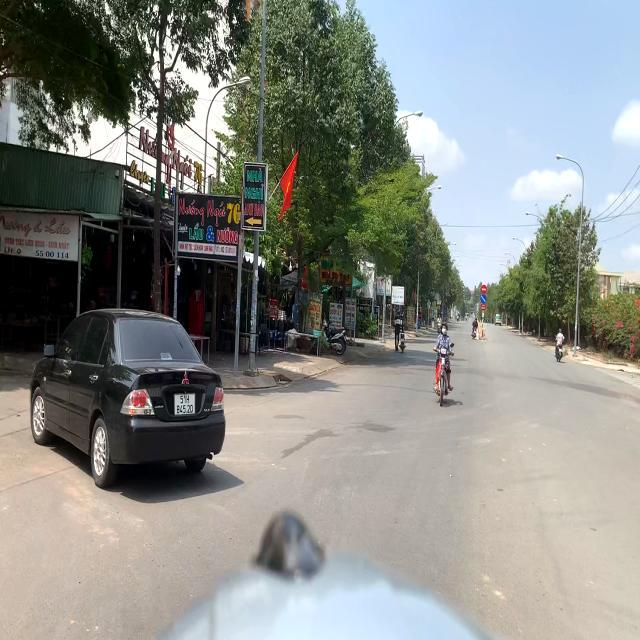Cam di nguoc chieu: (481, 284, 487, 294)
Vong chuong ngai vat sang phai: (481, 294, 486, 304)
